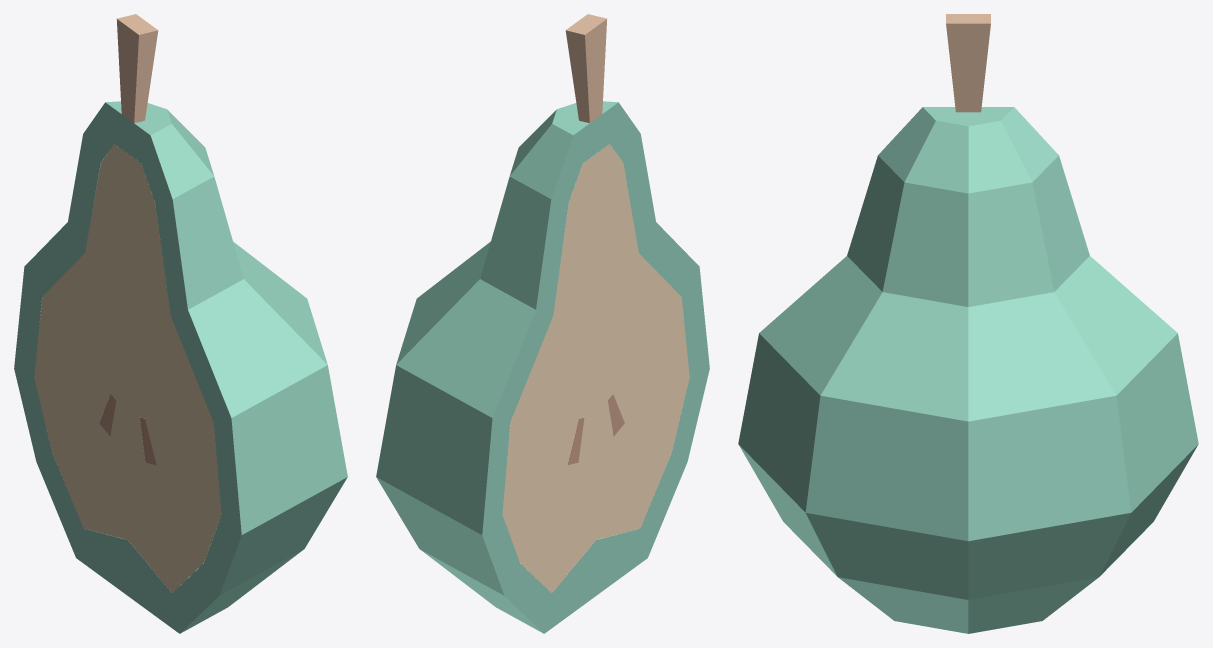
3 renders of one model, left to right at view 1: azimuth 30°, elevation 25°; view 2: azimuth 150°, elevation 25°; view 3: azimuth 270°, elevation 25°, orthographic.
Parts seen in each view (by area): view 1: pearHalf; view 2: pearHalf; view 3: pearHalf.
Part boxes in pixels (box(x1,y1,x2,y2)): pearHalf: box(14, 14, 347, 633); pearHalf: box(376, 14, 709, 633); pearHalf: box(738, 14, 1198, 633).
Size of the model in its own units: 0.0981 by 0.2708 by 0.1963.
